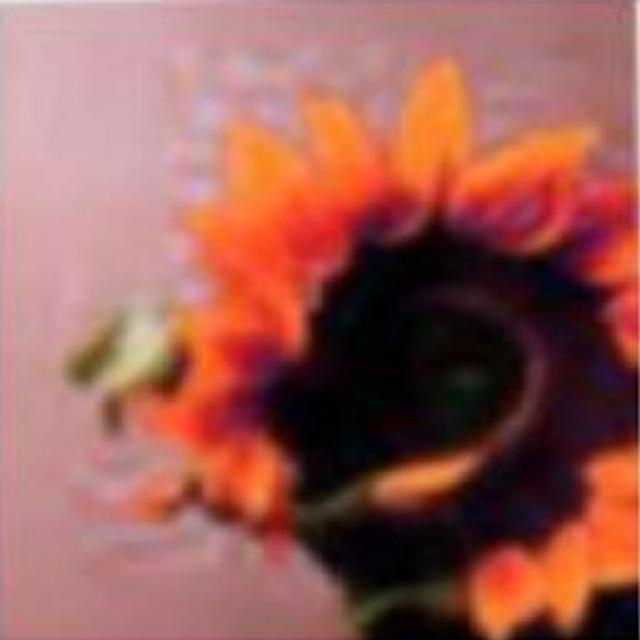sunflower: (123, 50, 640, 638)
